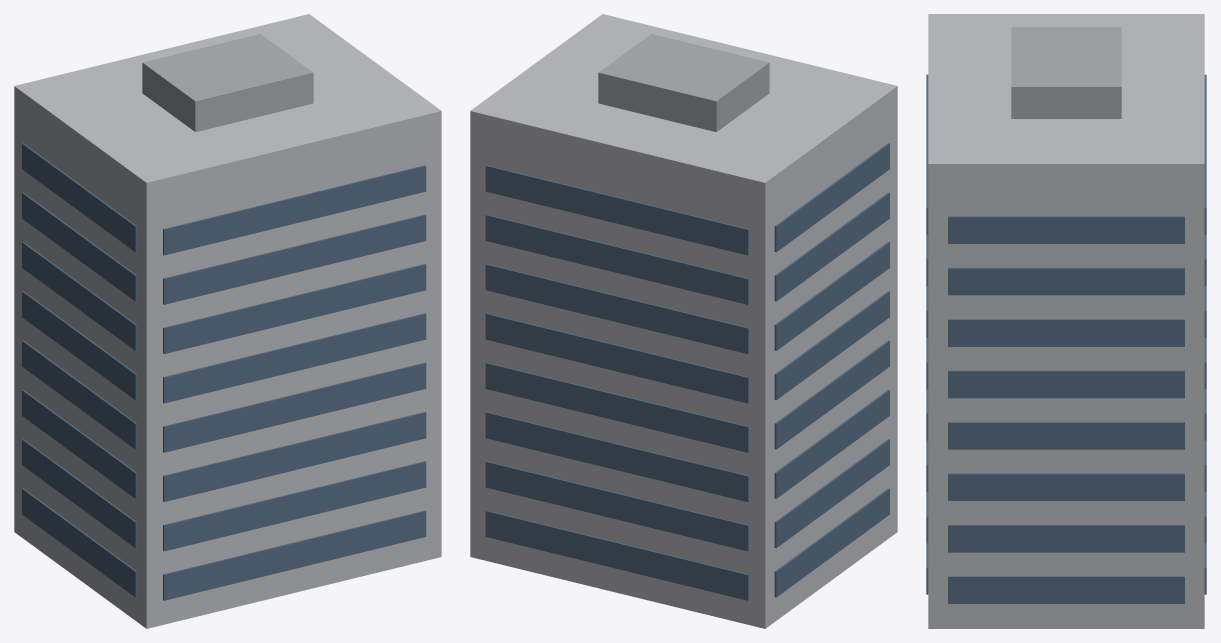
Rendered from office_building.glb.
3 renders of one model, left to right at view 1: azimuth 30°, elevation 25°; view 2: azimuth 150°, elevation 25°; view 3: azimuth 270°, elevation 25°, orthographic. The views are drawn at different scales.
Visible parts, largest first — view 1: office_building; view 2: office_building; view 3: office_building.
Part boxes in pixels (left/top/right/bottom): office_building: left=14, top=14, right=441, bottom=628; office_building: left=470, top=14, right=897, bottom=628; office_building: left=926, top=14, right=1206, bottom=628.
Bounding box in the file's own units: 18.21 × 27.8 × 14.21.
